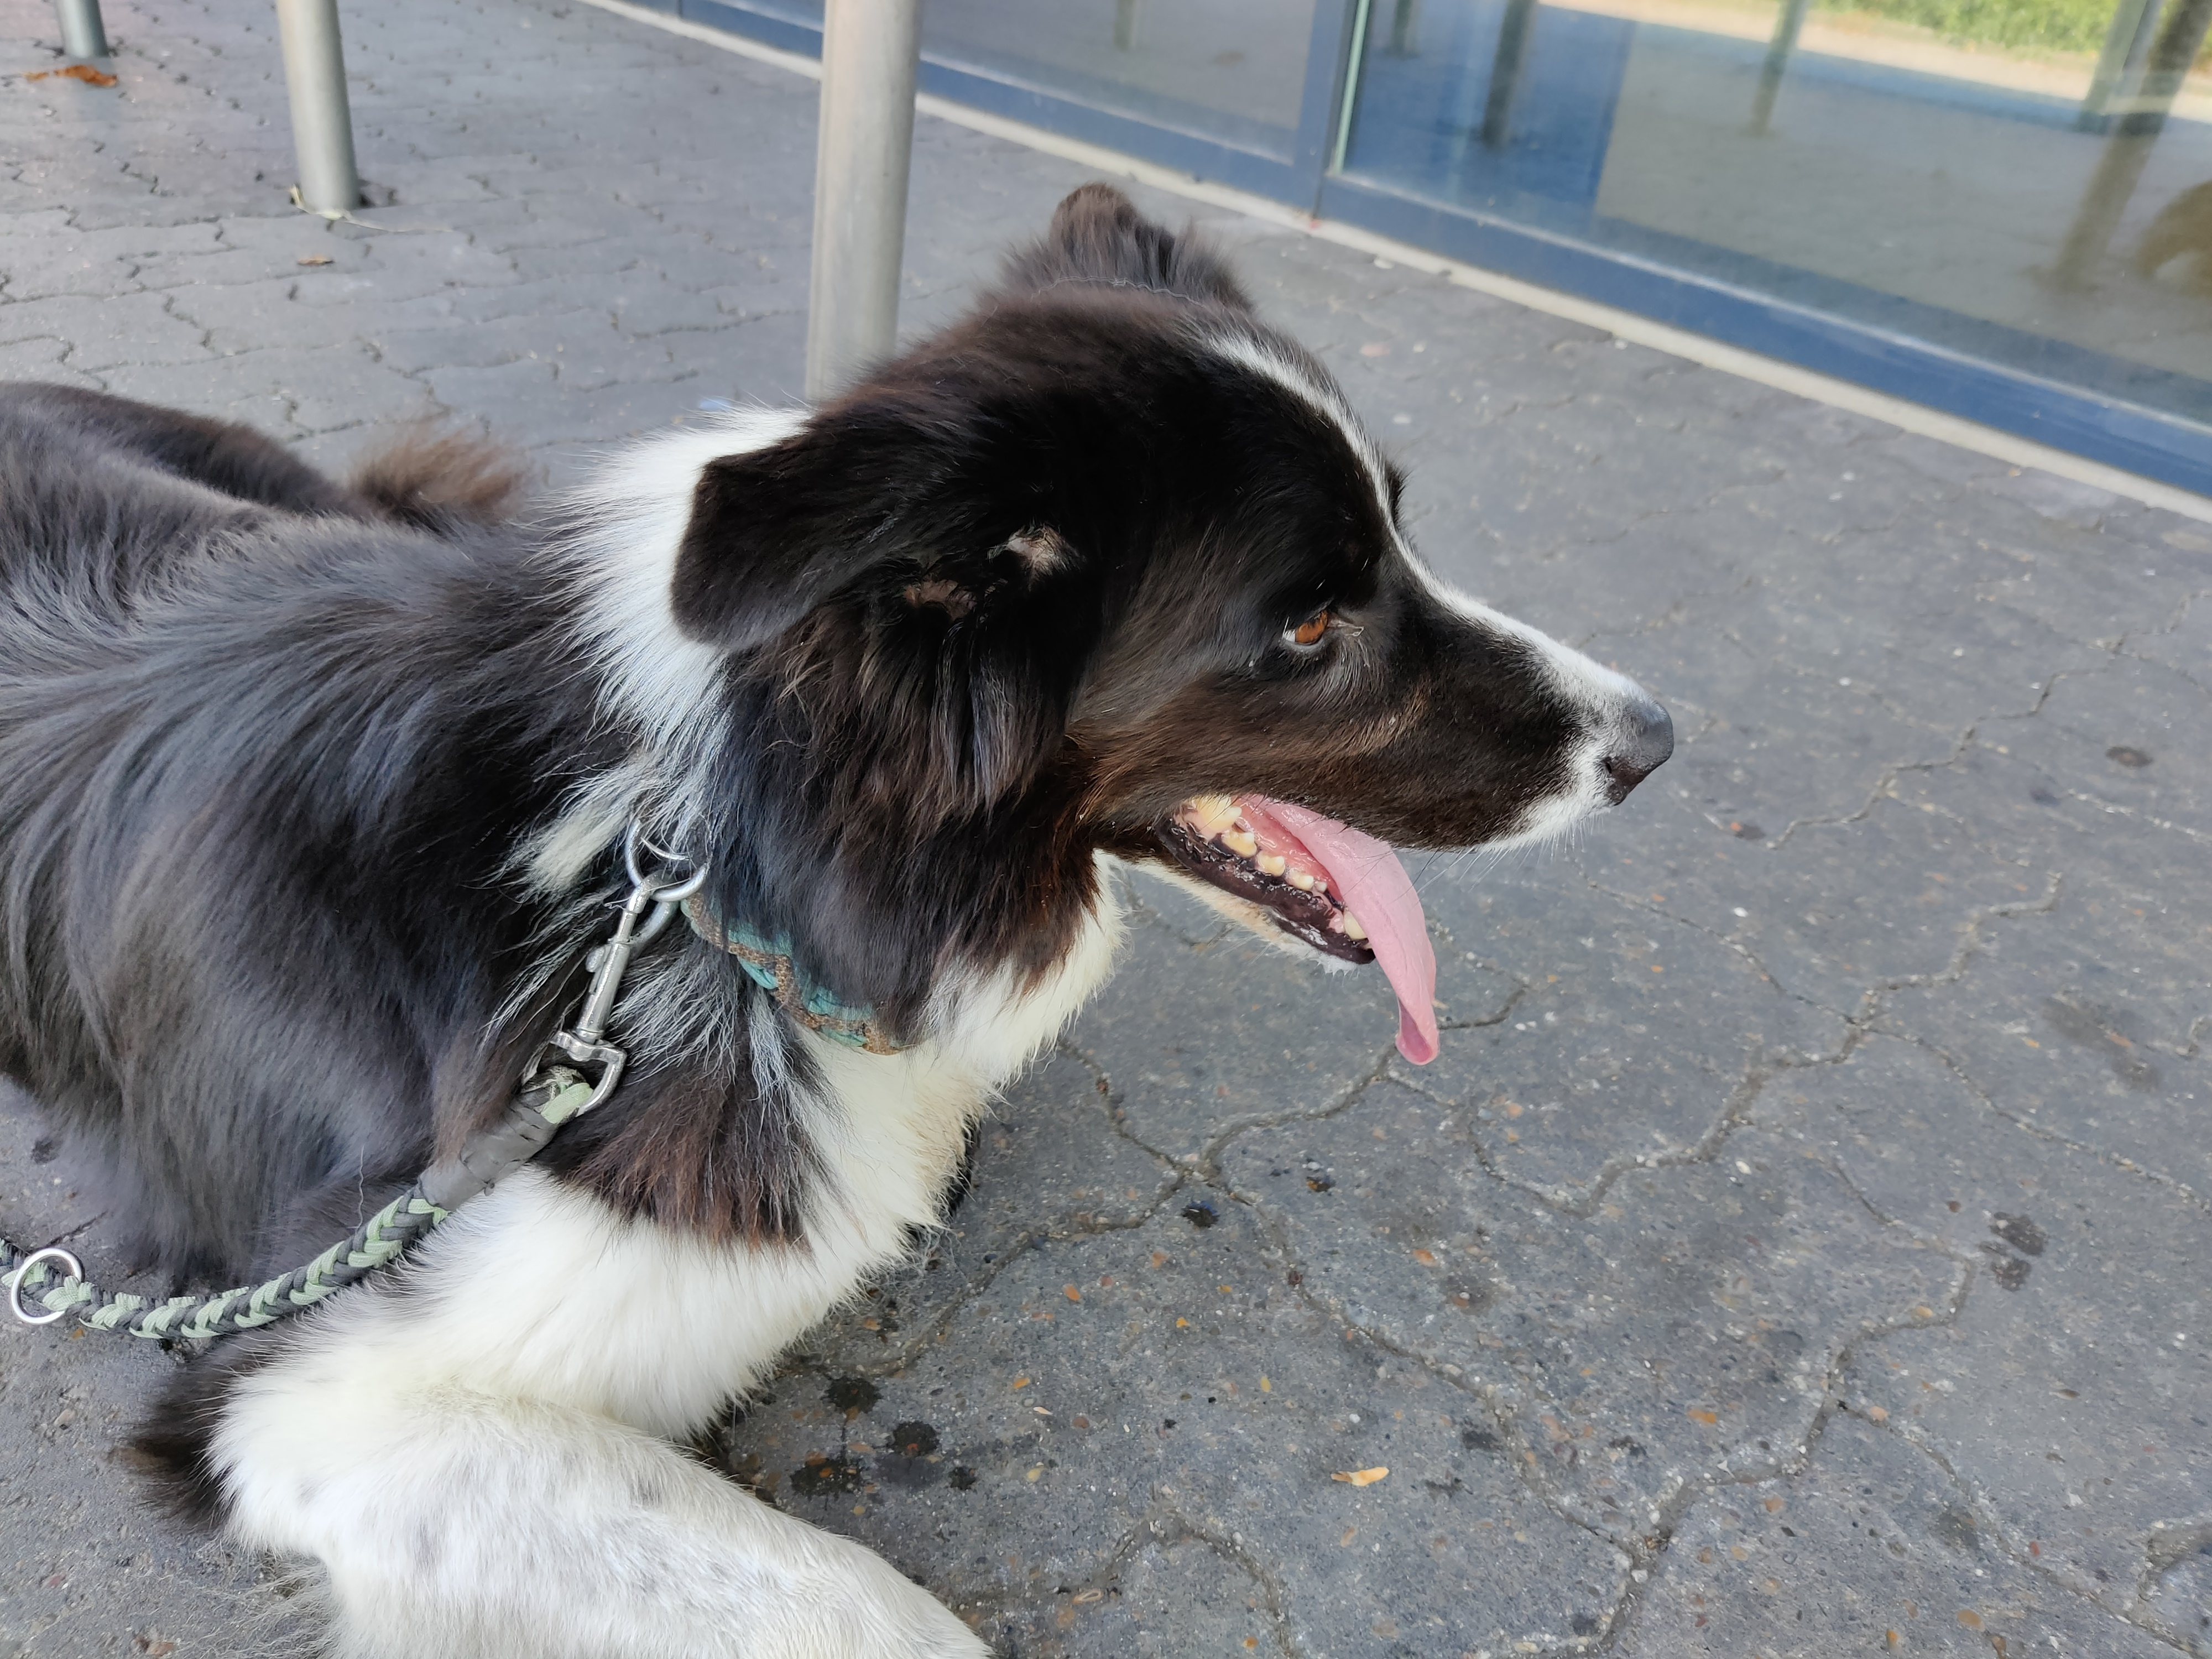Dog: (0, 169, 1689, 1659)
